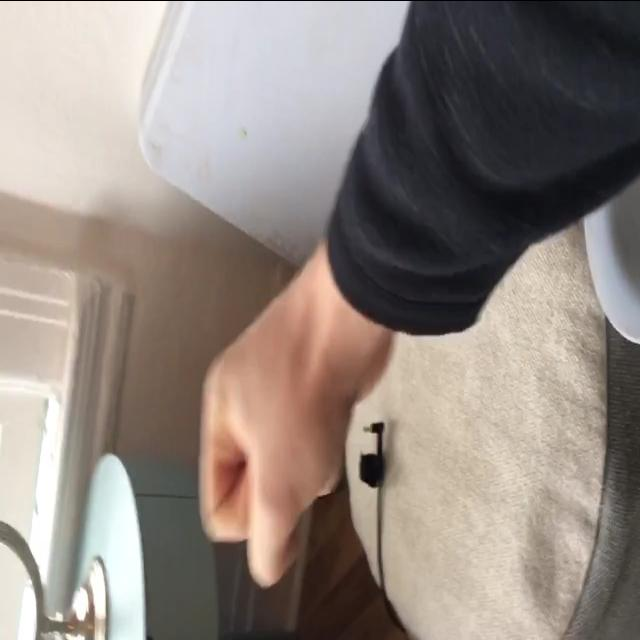Rock: (196, 306, 354, 586)
